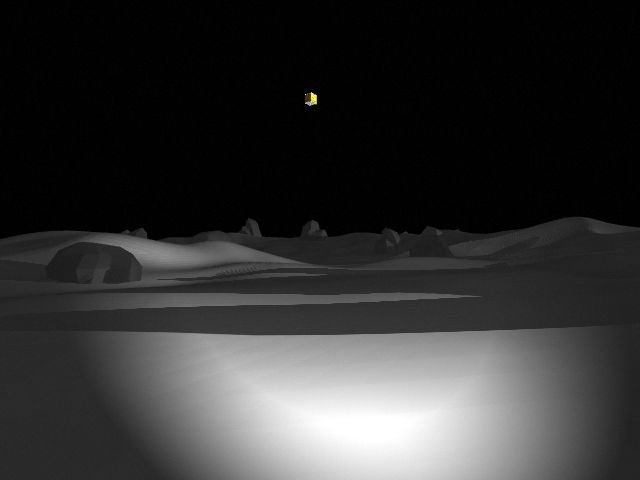cubesat: (299, 91, 321, 107)
